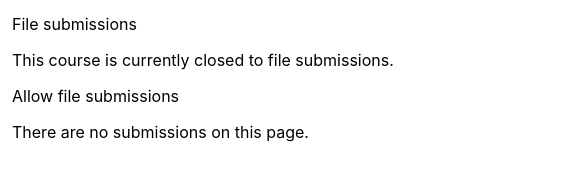
Test: opens intake only after the course authorizes the manager's update
Expected: the text "This course is currently closed to file submissions." is shown, [12,50,394,70]
What coordinates should you click on to do the following:
click the button "Allow file submissions"
I would click on:
 (96, 96)
Its box is [12,84,179,108].
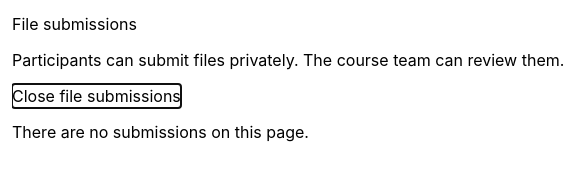
Result: the button "Close file submissions" is shown at [12,84,181,108]
